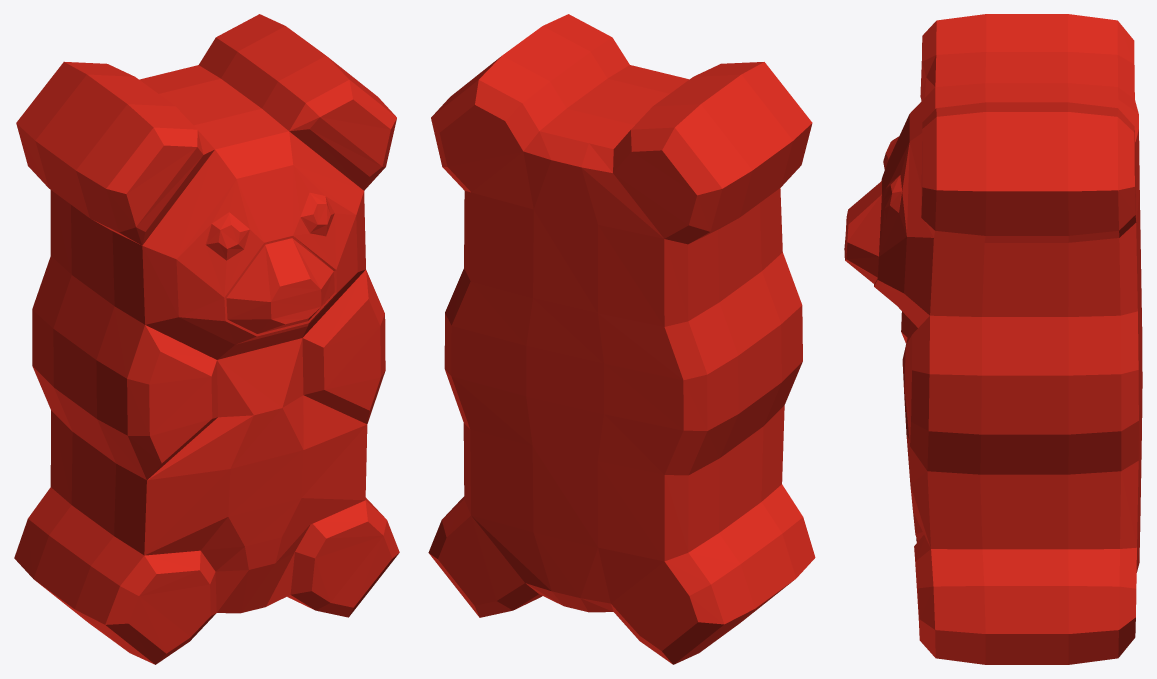
File: gummy-bear.glb
3 renders of one model, left to right at view 1: azimuth 30°, elevation 25°; view 2: azimuth 150°, elevation 25°; view 3: azimuth 270°, elevation 25°, orthographic.
Visible parts, largest first — view 1: Gummy_Bear; view 2: Gummy_Bear; view 3: Gummy_Bear.
Boxes of the visible parts, x1,y1,x2,y2 form: Gummy_Bear: (14, 14, 399, 664); Gummy_Bear: (428, 14, 815, 664); Gummy_Bear: (844, 14, 1142, 664).
Size of the model in its own units: 78.94 by 135 by 65.91.
1 material, 1 textured.
